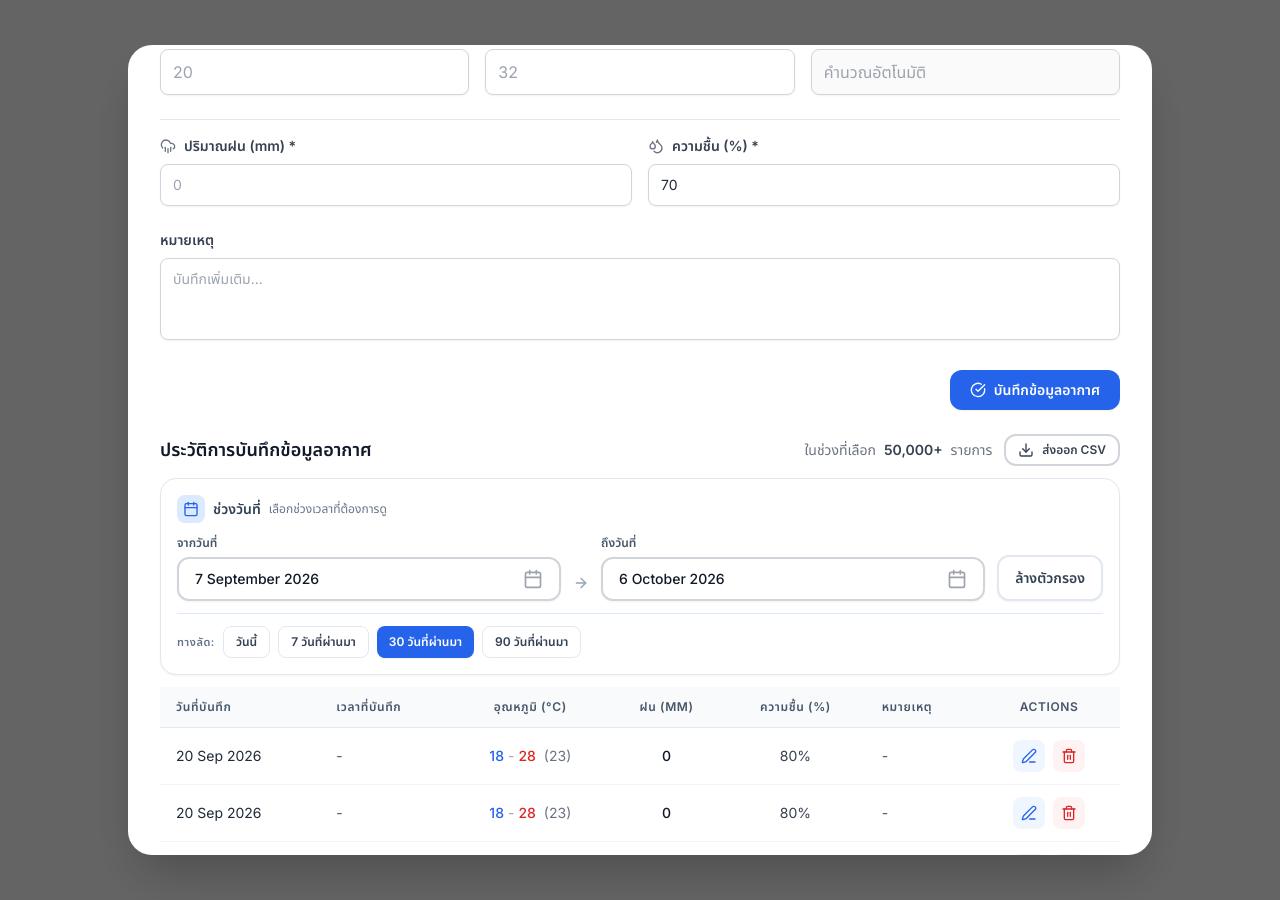
it: Farm CSV exports › when the range holds more records than the table loads › refuses to export a range the backend cannot return in full
(page scrolled)
Click the button "ส่งออก CSV" at coordinates (1062, 450), box x1=1004 y1=434 x2=1120 y2=466
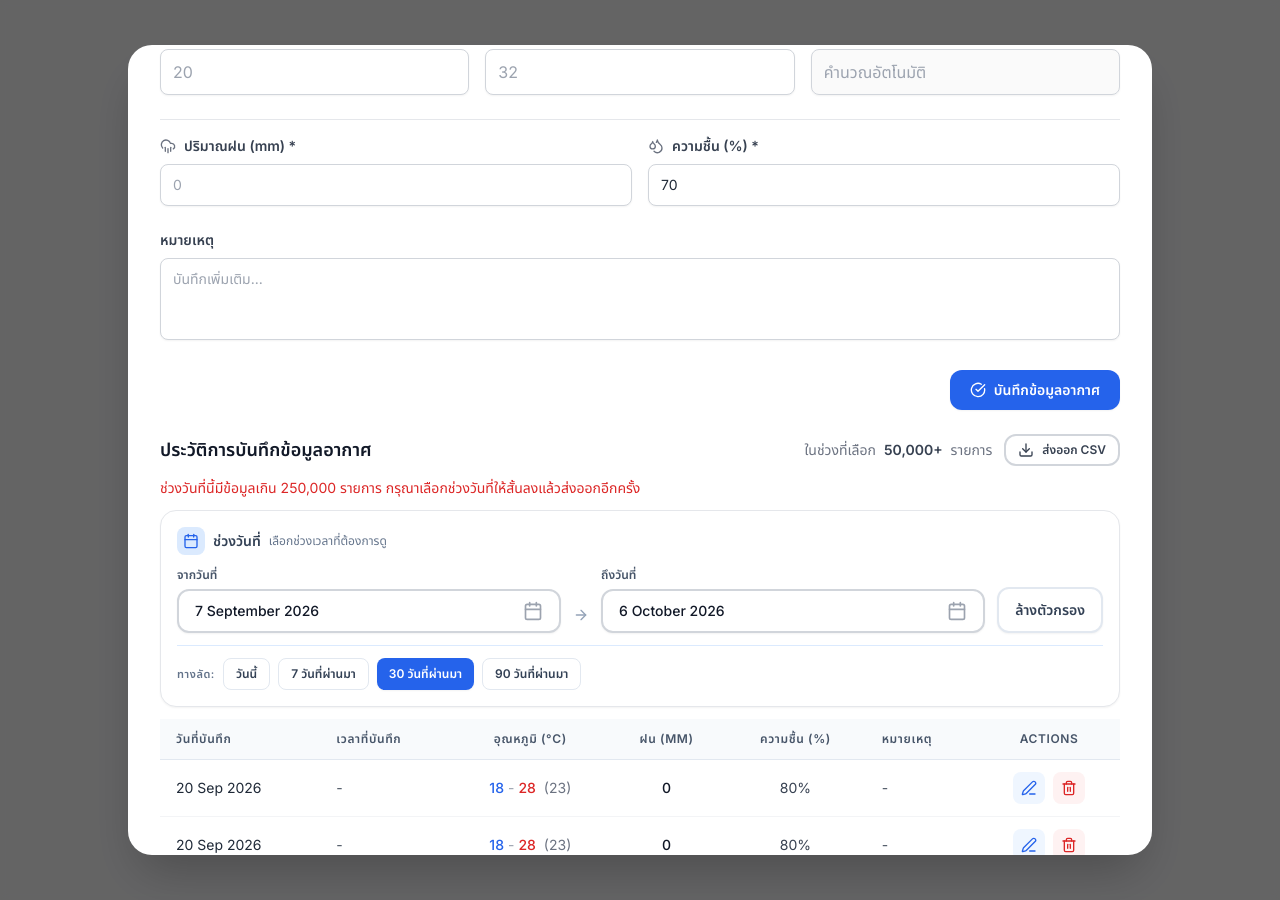
expect the text "กรุณาเลือกช่วงวันที่ให้สั้นลง" is shown: met, box x1=160 y1=479 x2=640 y2=496
